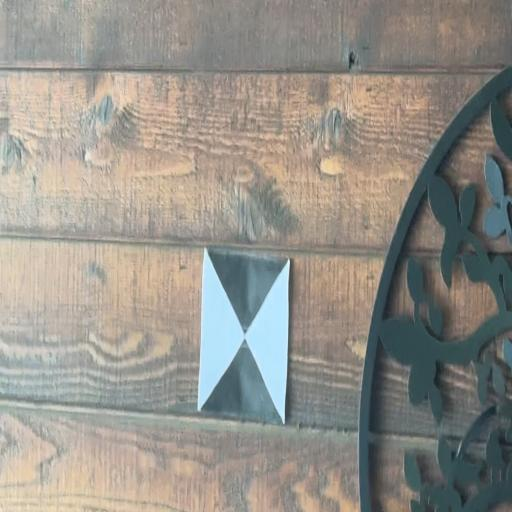target: (197, 246, 291, 423)
